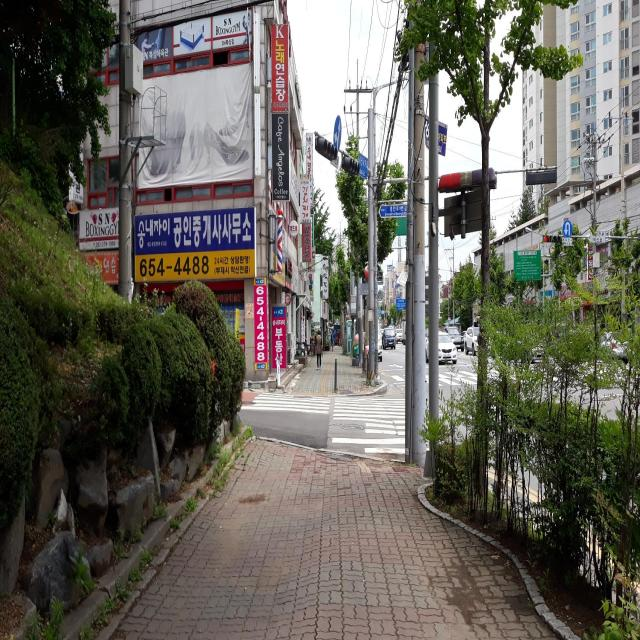횡단보도: (240, 392, 406, 454), (388, 372, 478, 389)
